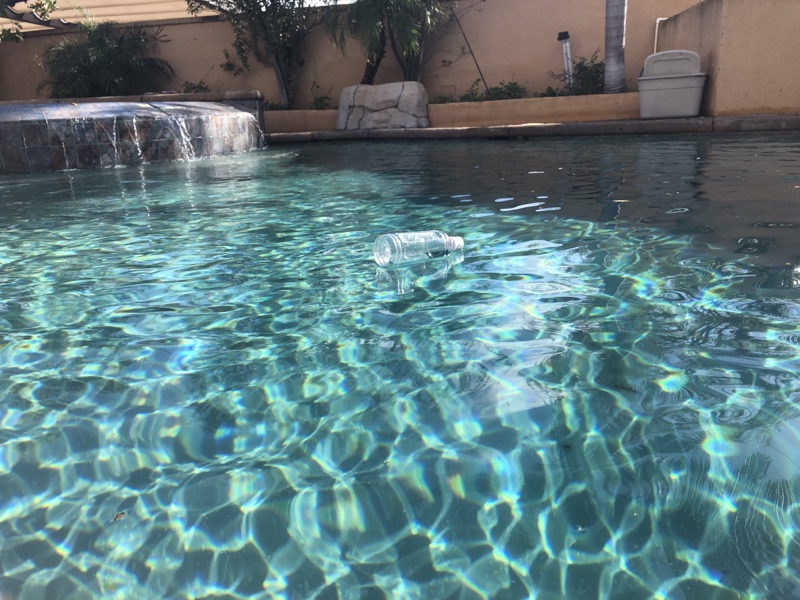Plastic Bottle: (369, 227, 467, 264)
